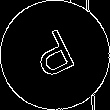P_SE: (27, 24, 83, 85)
